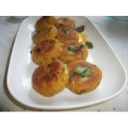cutlet: (30, 58, 70, 95), (66, 60, 102, 93), (30, 37, 61, 63), (61, 38, 88, 63), (33, 25, 59, 41), (56, 25, 80, 41), (34, 16, 58, 29)
